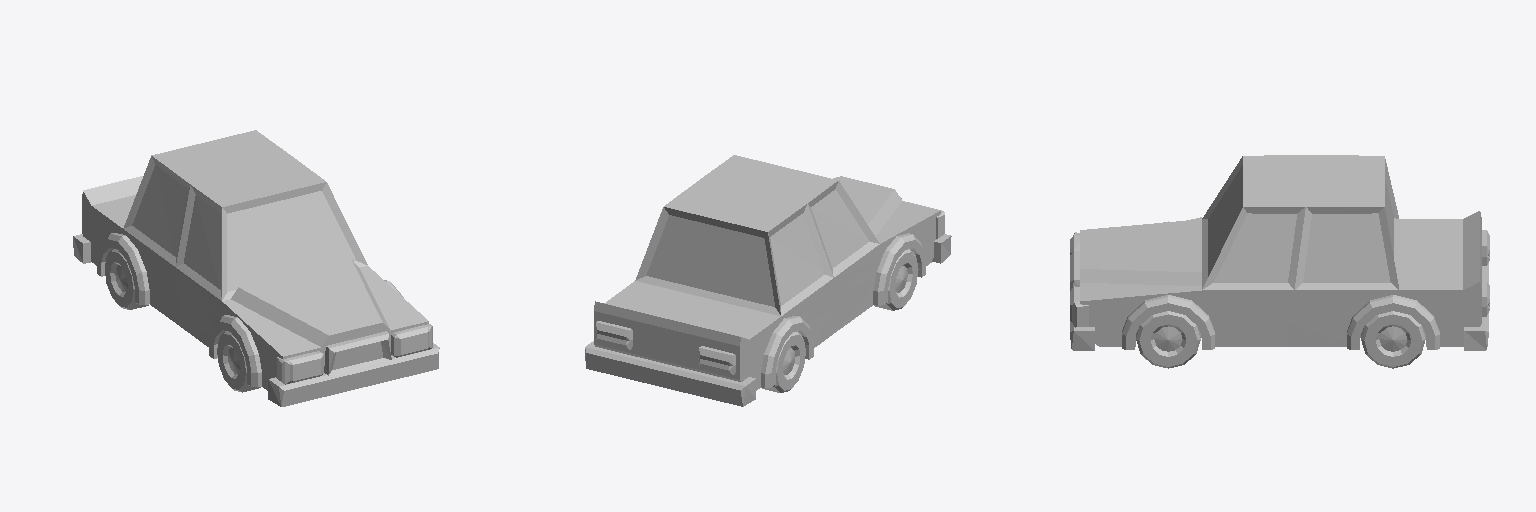
The model's file is car1.obj.
The picture shows the model from 3 angles: view 1: azimuth 30°, elevation 25°; view 2: azimuth 150°, elevation 25°; view 3: azimuth 270°, elevation 25°; orthographic projection.
Parts seen in each view (by area): view 1: car_sedan, car_sedan_wheel_rear_right, car_sedan_wheel_front_right; view 2: car_sedan, car_sedan_wheel_front_right, car_sedan_wheel_rear_right; view 3: car_sedan, car_sedan_wheel_front_left, car_sedan_wheel_rear_left.
Part boxes in pixels (bbox=[...]): car_sedan: bbox=[73, 130, 439, 406]; car_sedan_wheel_rear_right: bbox=[105, 249, 148, 309]; car_sedan_wheel_front_right: bbox=[217, 331, 260, 392]; car_sedan: bbox=[585, 155, 951, 406]; car_sedan_wheel_front_right: bbox=[874, 249, 918, 310]; car_sedan_wheel_rear_right: bbox=[761, 331, 805, 392]; car_sedan: bbox=[1070, 155, 1489, 350]; car_sedan_wheel_front_left: bbox=[1136, 311, 1200, 368]; car_sedan_wheel_rear_left: bbox=[1361, 311, 1425, 368].
Bounding box in the file's own units: 0.419 × 0.3688 × 0.9381.